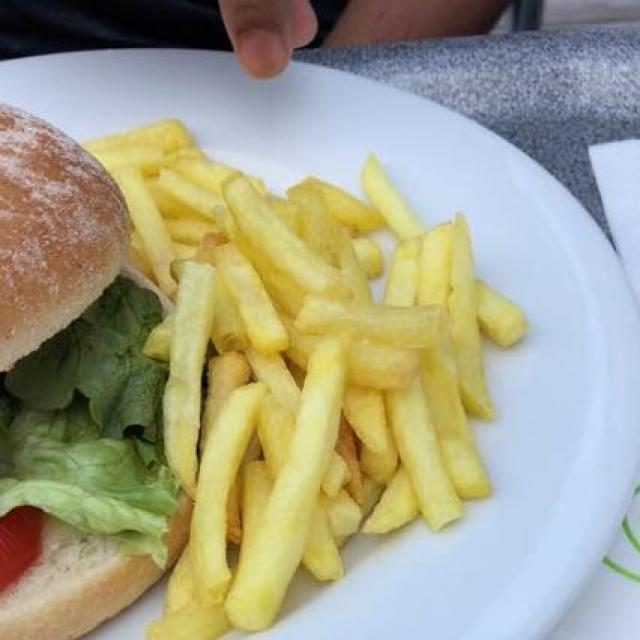French Fries: (136, 120, 514, 604)
